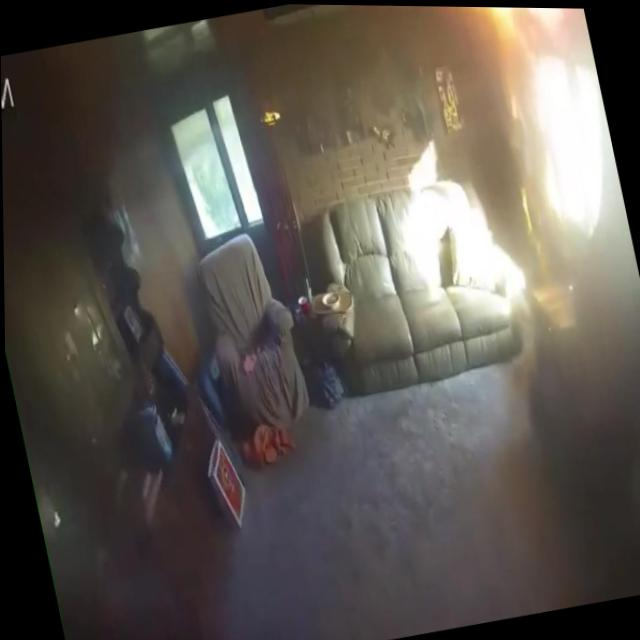fire: (491, 83, 559, 267), (427, 5, 575, 52)
